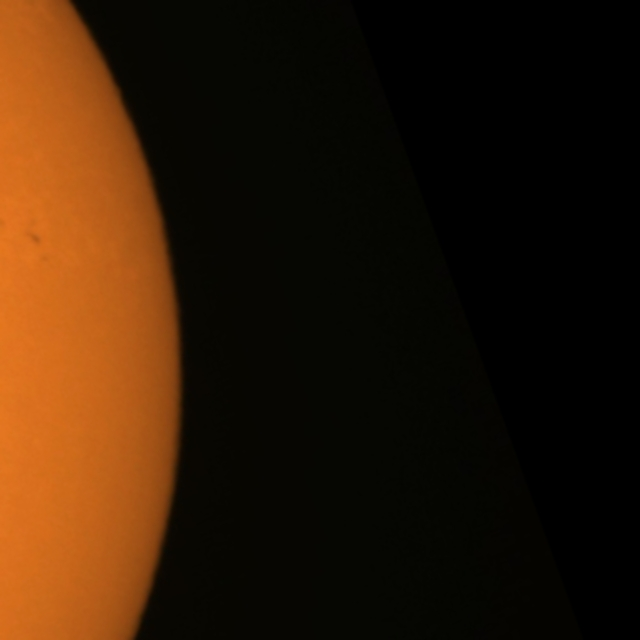sunspot: (26, 230, 49, 265), (24, 228, 45, 249)
